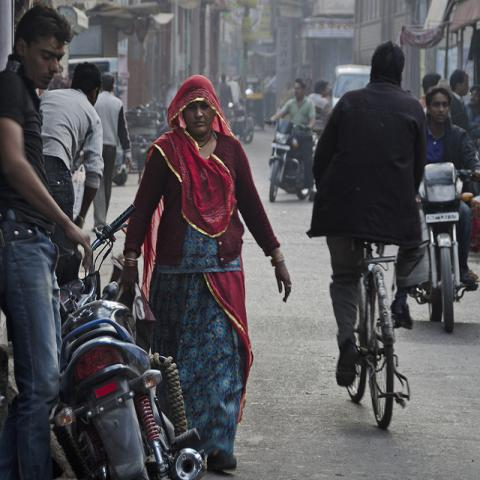car: (331, 63, 374, 111), (125, 109, 162, 157)
motorcycle: (58, 207, 207, 476), (409, 161, 479, 335), (264, 120, 308, 201), (228, 98, 252, 142)
